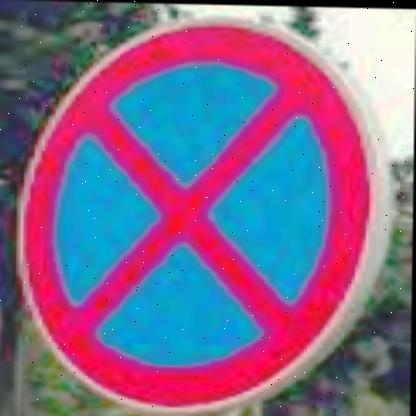No stopping: (11, 6, 397, 416)
